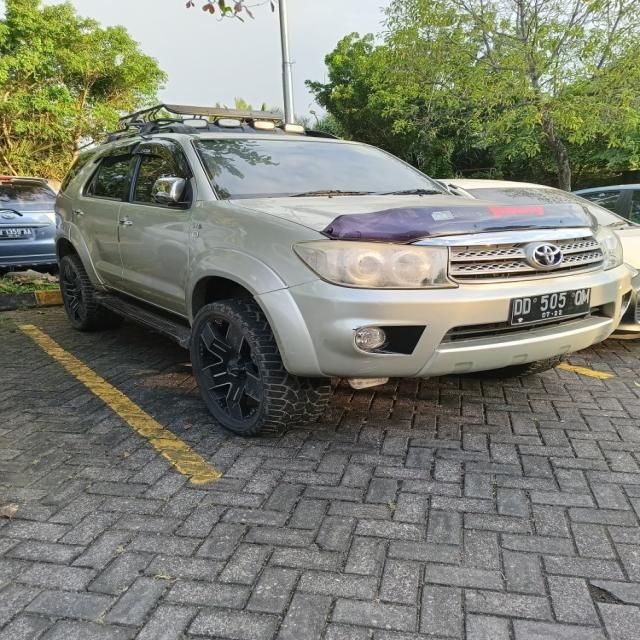plates: (506, 286, 600, 324)
